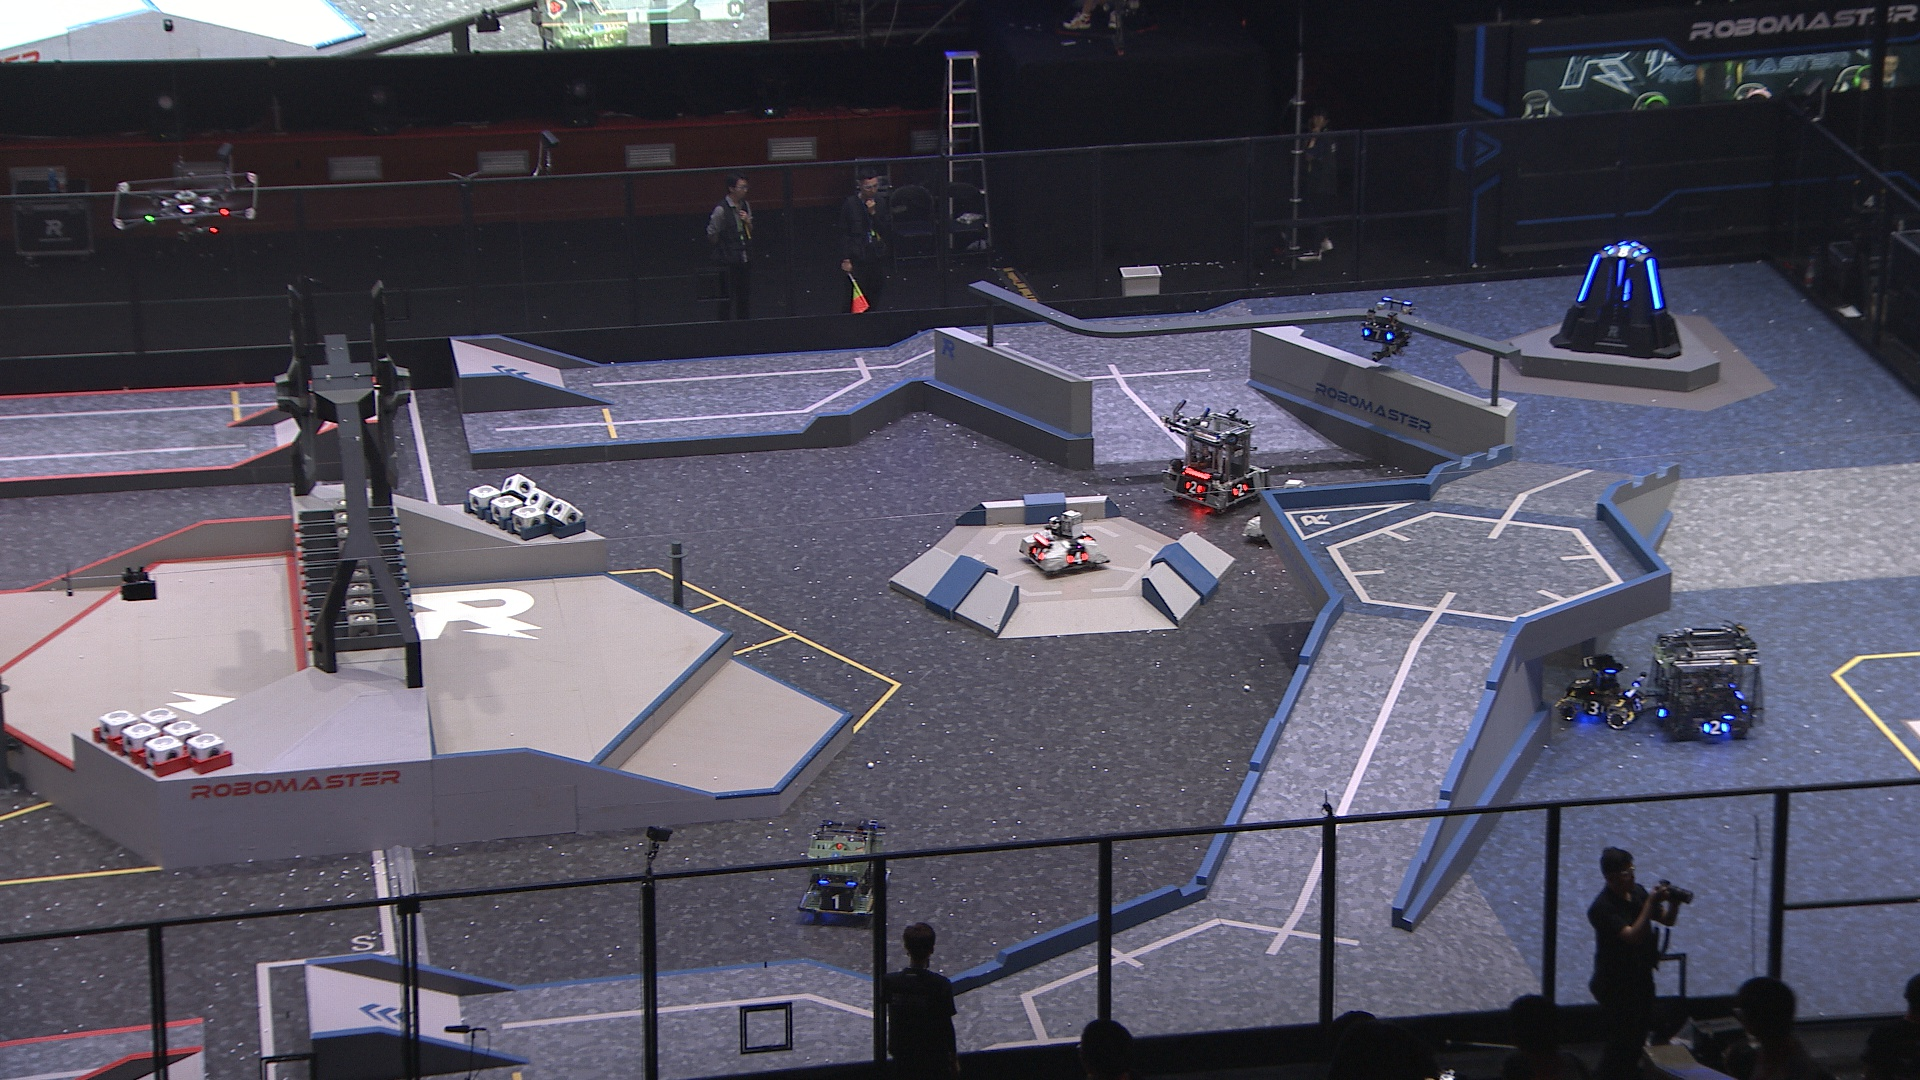armor: (1575, 253, 1602, 305), (1646, 256, 1665, 311), (818, 891, 852, 913), (1604, 244, 1642, 261), (1700, 717, 1731, 737), (1361, 327, 1395, 344), (1582, 698, 1607, 716), (1065, 549, 1091, 566), (1183, 479, 1207, 496), (1614, 258, 1626, 290), (1629, 694, 1646, 713), (1621, 277, 1633, 305), (1571, 674, 1590, 690), (1232, 481, 1249, 498), (1029, 543, 1044, 560)
base: (1545, 240, 1684, 361)
car: (1650, 622, 1762, 745), (1160, 413, 1261, 518), (796, 816, 891, 920), (1553, 651, 1651, 732), (1017, 510, 1106, 578)
ignore: (531, 0, 629, 47)
watcher: (1358, 295, 1415, 363)
